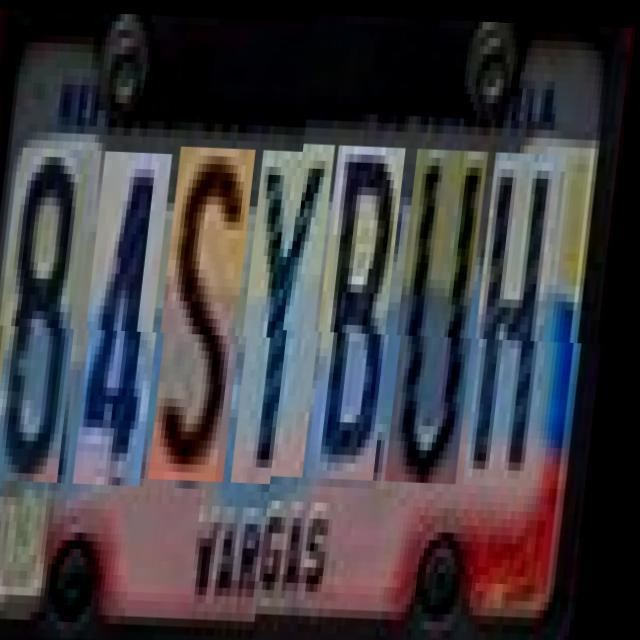4: (84, 150, 180, 484)
8: (1, 148, 97, 482)
B: (316, 150, 412, 484)
H: (473, 156, 569, 490)
S: (159, 145, 263, 480)
U: (394, 153, 494, 488)
Y: (242, 148, 342, 482)
